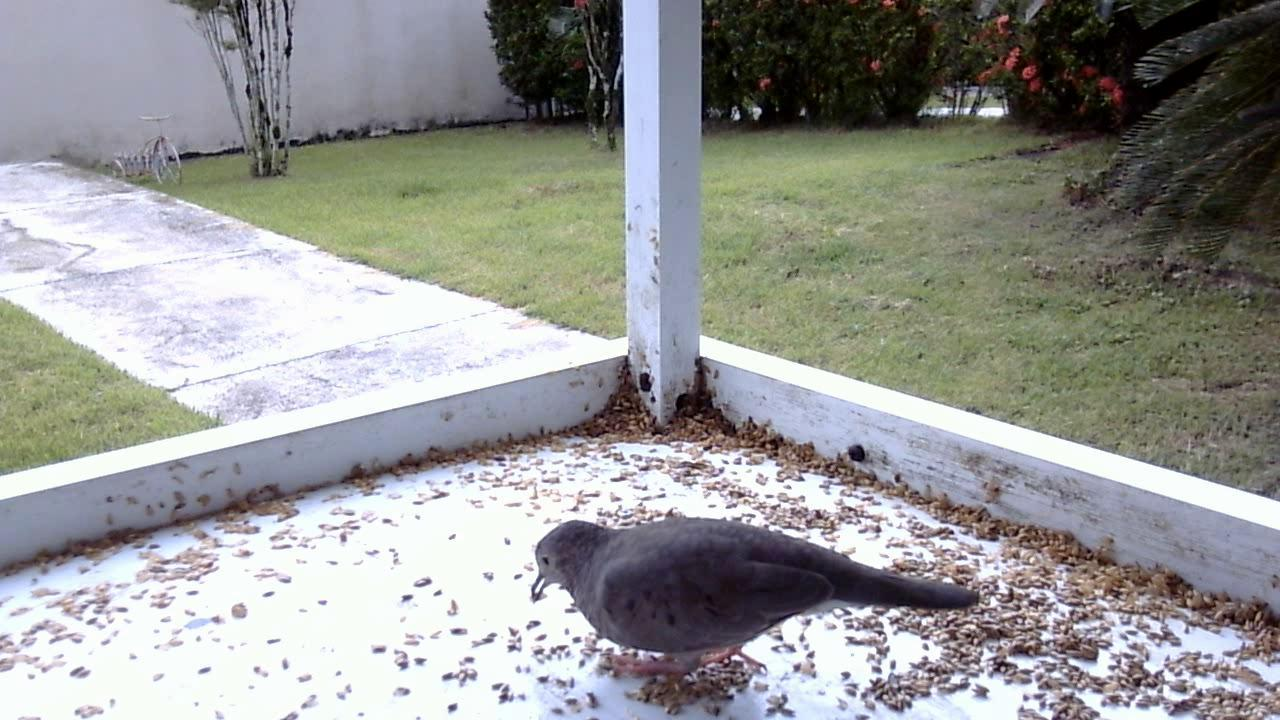rolinha: (526, 502, 985, 702)
